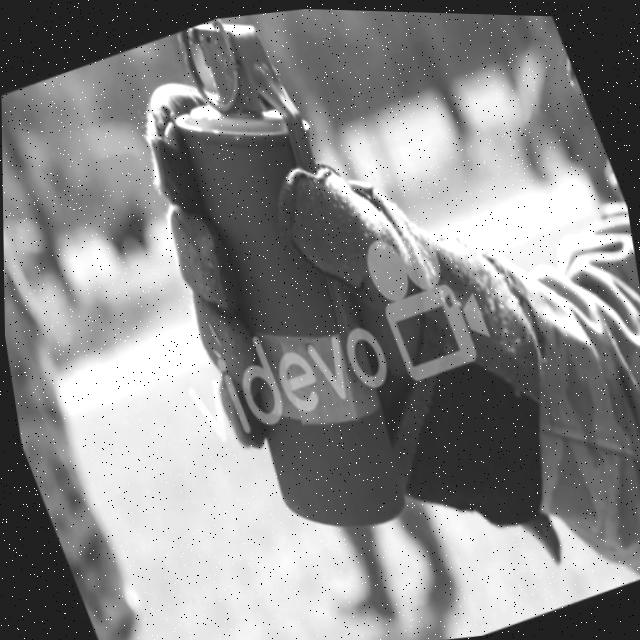grenade: (103, 2, 454, 571)
